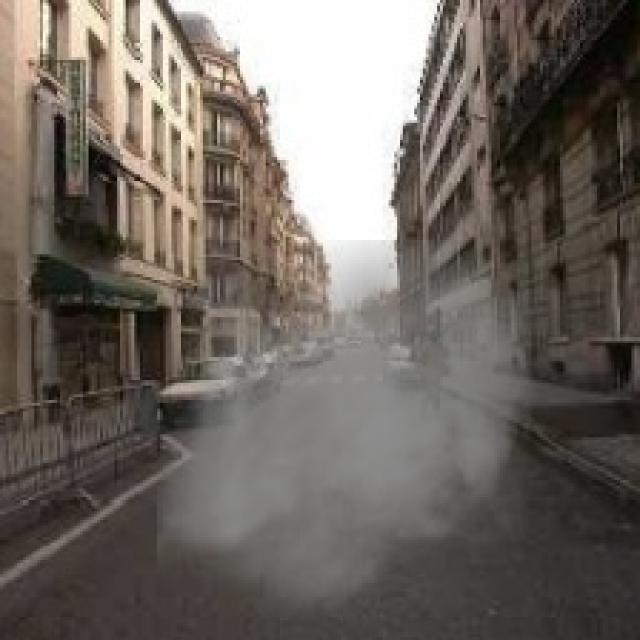smoke: (157, 240, 537, 629)
